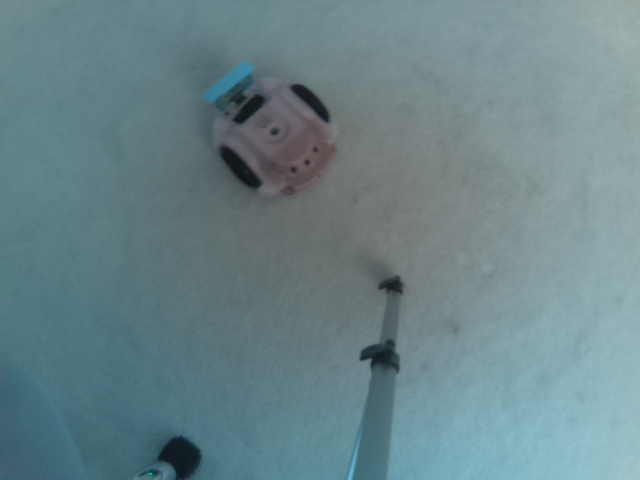board: (198, 60, 263, 109)
chassis: (197, 50, 345, 213)
